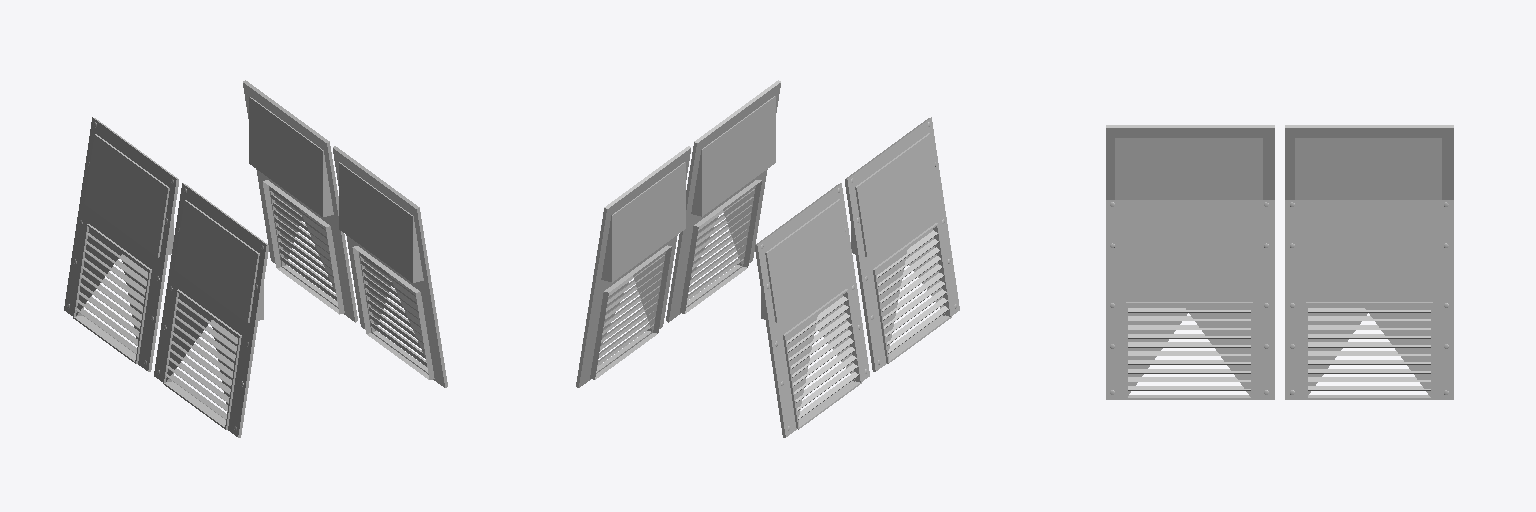
The model's file is train1.obj.
3 renders of one model, left to right at view 1: azimuth 30°, elevation 25°; view 2: azimuth 150°, elevation 25°; view 3: azimuth 270°, elevation 25°, orthographic.
Visible parts, largest first — view 1: Cube.007_Cube.011; view 2: Cube.007_Cube.011; view 3: Cube.007_Cube.011.
Part boxes in pixels (x1,y1,x2,y2): Cube.007_Cube.011: (64, 80, 447, 437); Cube.007_Cube.011: (576, 80, 959, 437); Cube.007_Cube.011: (1106, 125, 1453, 399).
Bounding box in the file's own units: 1.65 × 1.38 × 2.33.